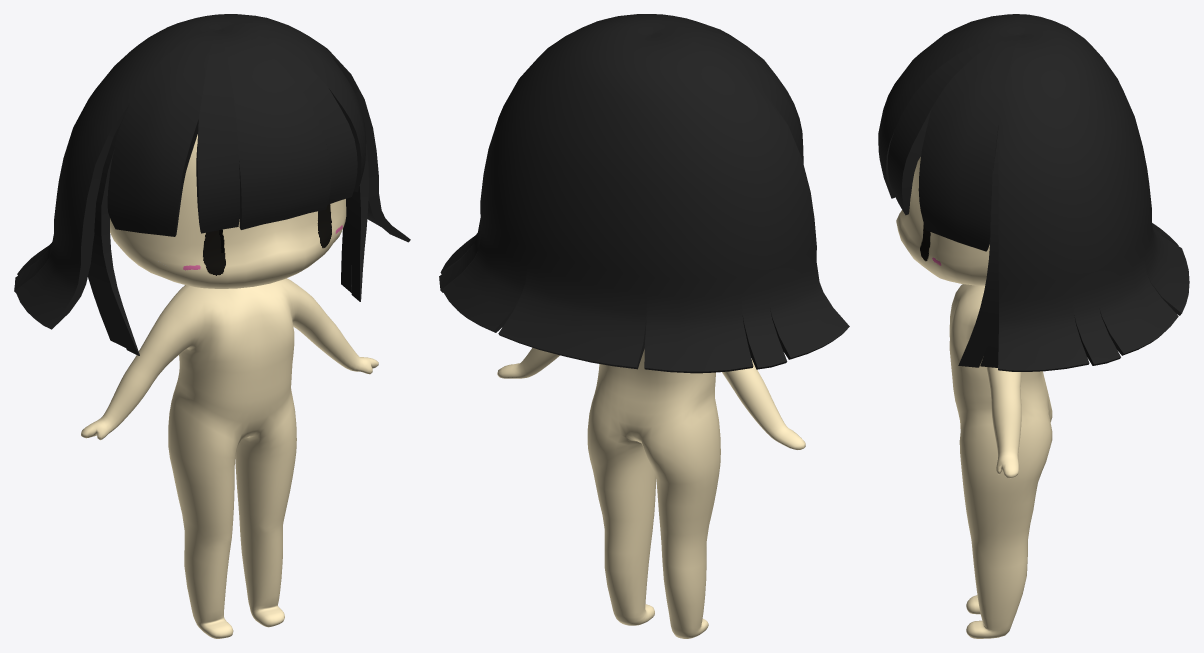
The model's file is bodyModel_pl.fbx.
3 views of the same model, side by side, from view 1: azimuth 30°, elevation 25°; view 2: azimuth 150°, elevation 25°; view 3: azimuth 270°, elevation 25° (orthographic). The views are drawn at different scales.
Visible parts, largest first — view 1: hair, body, head; view 2: hair, body; view 3: hair, body, head.
Boxes of the visible parts, <box> form: hair: <box>14,14,410,355</box>; body: <box>81,278,378,638</box>; head: <box>110,134,346,288</box>; hair: <box>439,14,849,373</box>; body: <box>497,347,805,638</box>; hair: <box>878,14,1189,371</box>; body: <box>949,284,1052,638</box>; head: <box>896,157,989,285</box>.
Size of the model in its own units: 2.64 by 4.08 by 1.96.
3 materials, 1 textured.
